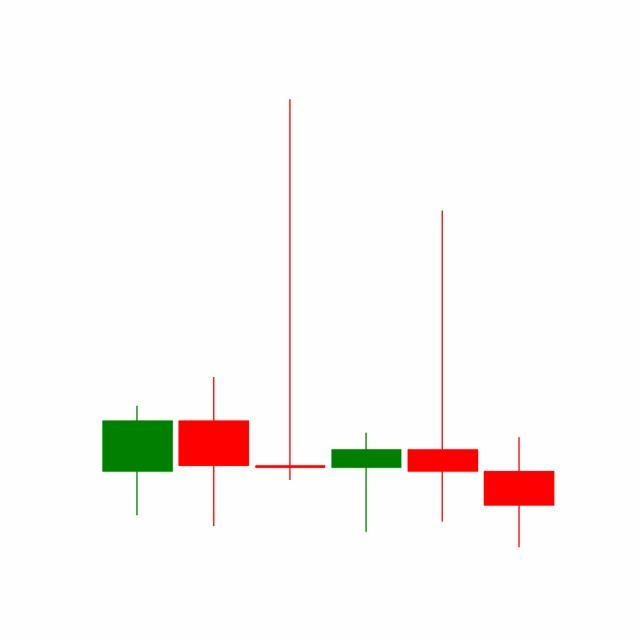Spinning Top: (404, 208, 482, 526)
